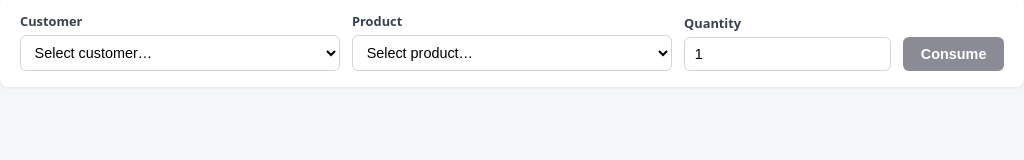
Test: ConsumeForm › posts the consumption with a minted idempotency key and shows the charge
Select "Acme ($2.50)" in the dropdown labelled "Customer" at (180, 53), box [20,35,340,71]
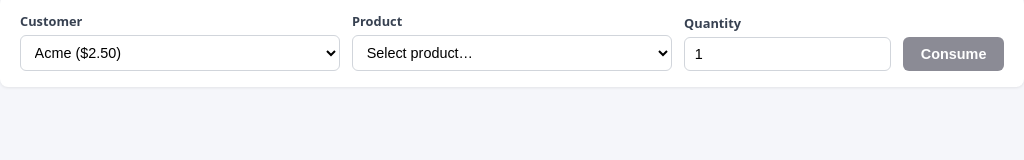
Select "Widget ($2.50/unit)" in the dropdown labelled "Product" at (512, 53), box [352,35,672,71]
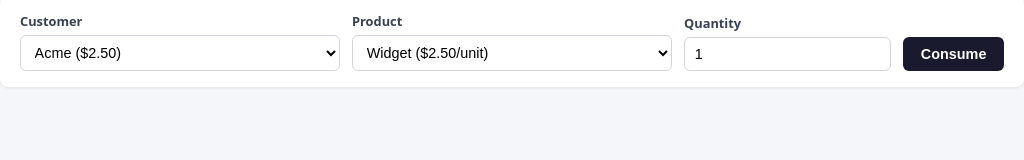
Replace the text in the number field labelled "Quantity" with "3" at (788, 54), box [684,37,891,71]
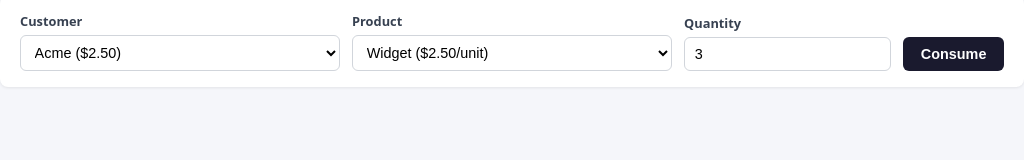
Click the button "Consume" at (954, 54), box [903,37,1004,71]
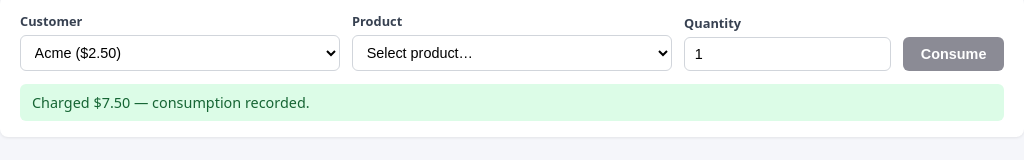
Expected: the text "Charged $7.50 — consumption recorded." is shown, [20,84,1004,121]
Expected: the number field labelled "Quantity" holds "1", [684,37,891,71]
